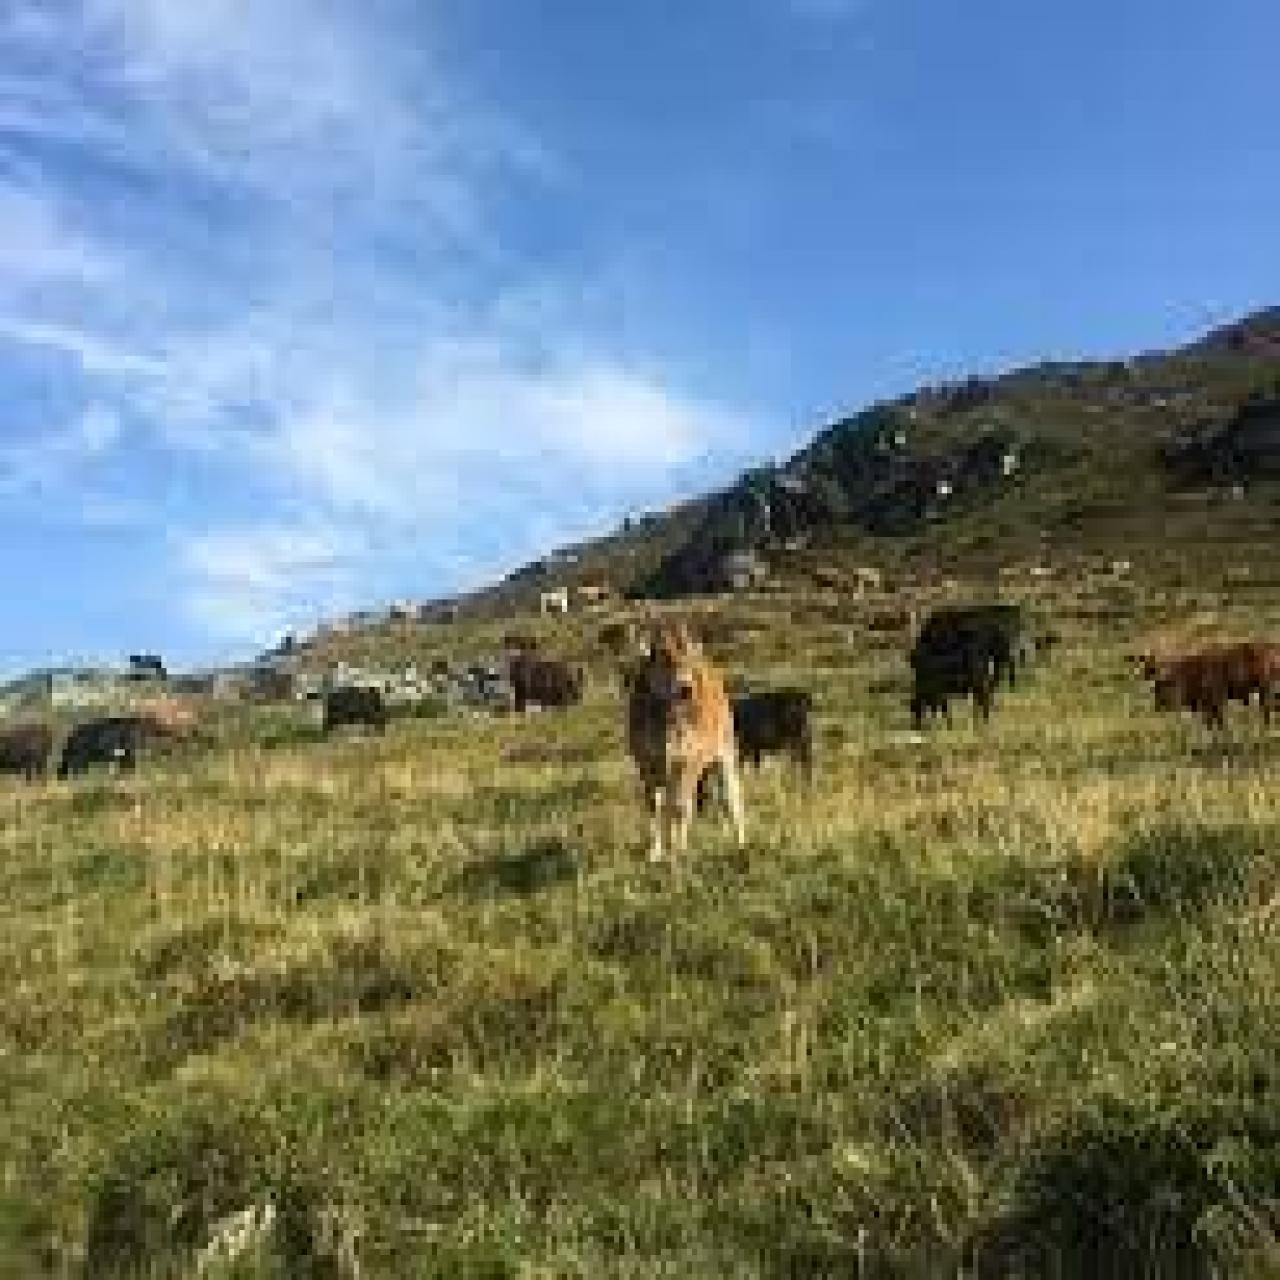cow: (611, 621, 730, 878), (1150, 646, 1280, 734), (723, 687, 817, 781), (57, 715, 136, 784), (312, 687, 396, 737)
